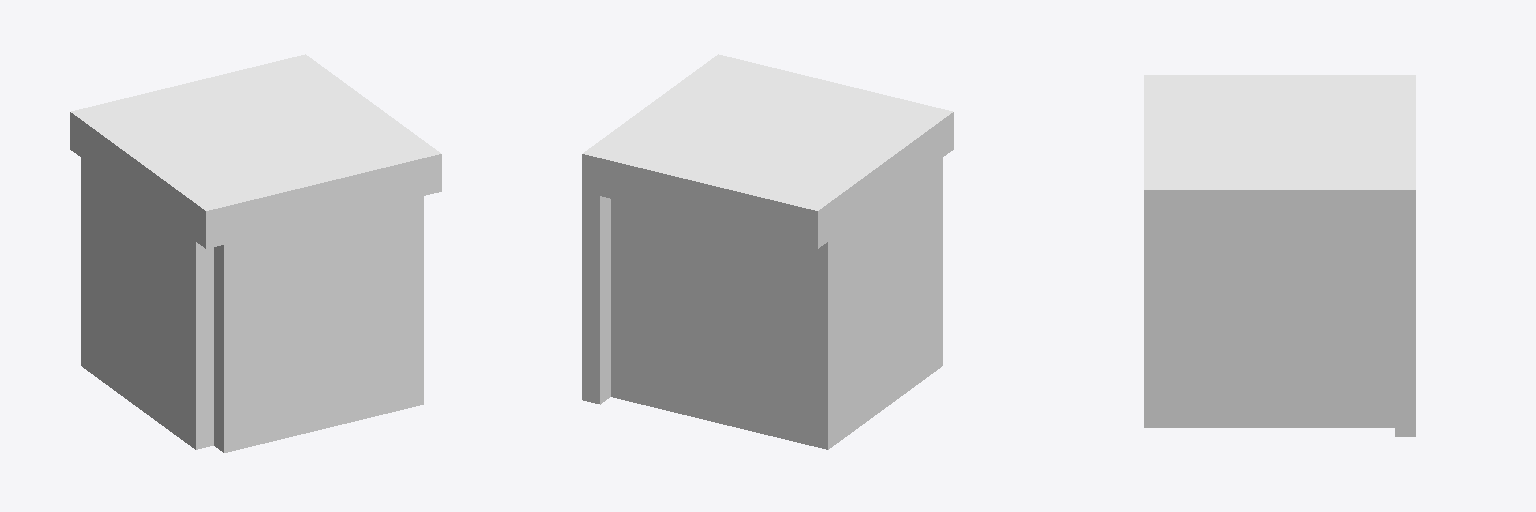
File: Corner.obj
3 views of the same model, side by side, from view 1: azimuth 30°, elevation 25°; view 2: azimuth 150°, elevation 25°; view 3: azimuth 270°, elevation 25° (orthographic).
Visible parts, largest first — view 1: object 1; view 2: object 1; view 3: object 1.
Part boxes in pixels (left/top/right/bottom): object 1: left=70, top=54, right=441, bottom=452; object 1: left=582, top=54, right=953, bottom=449; object 1: left=1144, top=75, right=1415, bottom=436.
Bounding box in the file's own units: 3.9 × 3.9 × 3.9.